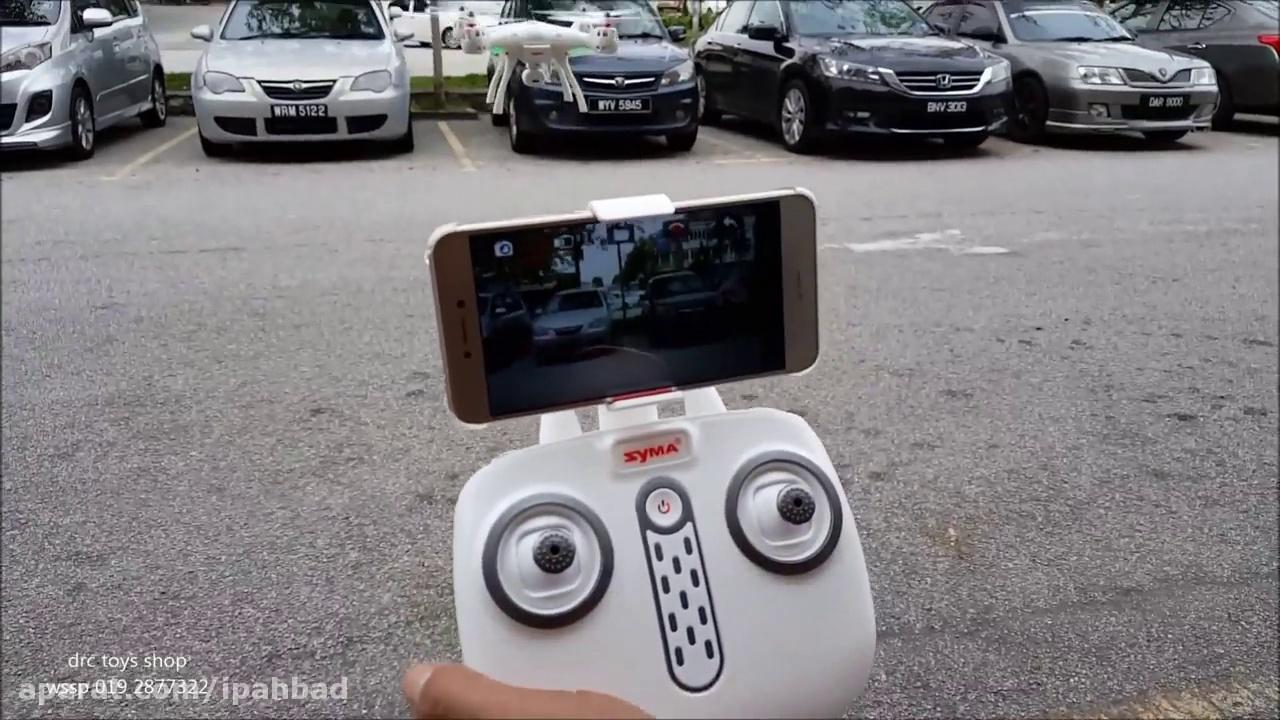drone: (433, 0, 662, 116)
